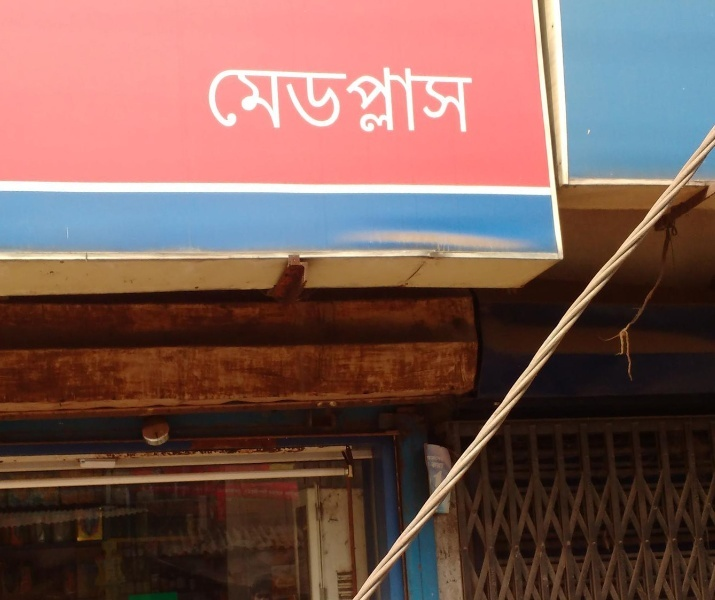text: (209, 62, 224, 136), (225, 62, 240, 136), (241, 62, 256, 136), (257, 62, 272, 136), (273, 62, 288, 136), (289, 62, 304, 136), (305, 62, 320, 136), (321, 62, 336, 136), (337, 62, 352, 136), (353, 62, 368, 136), (369, 62, 384, 136), (385, 62, 400, 136), (401, 62, 416, 136), (417, 62, 432, 136), (433, 62, 448, 136), (449, 62, 464, 136), (433, 453, 448, 516), (421, 453, 432, 516), (465, 62, 474, 136), (449, 453, 452, 516)
